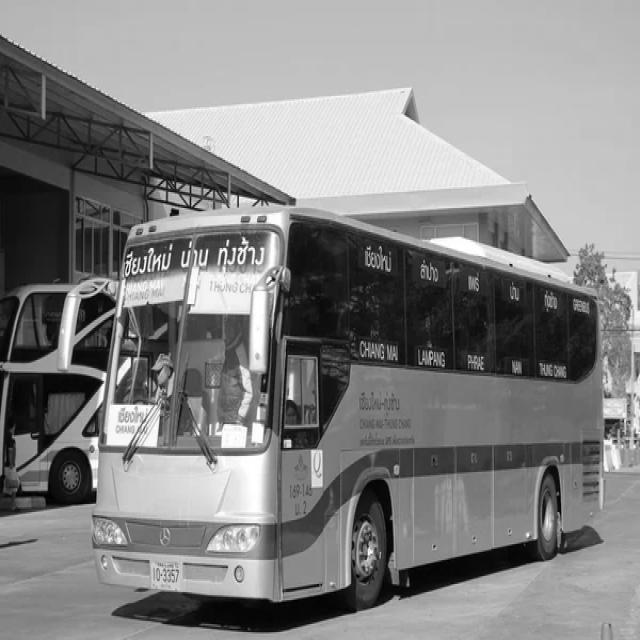Bus: (91, 210, 606, 610), (0, 270, 100, 512)
